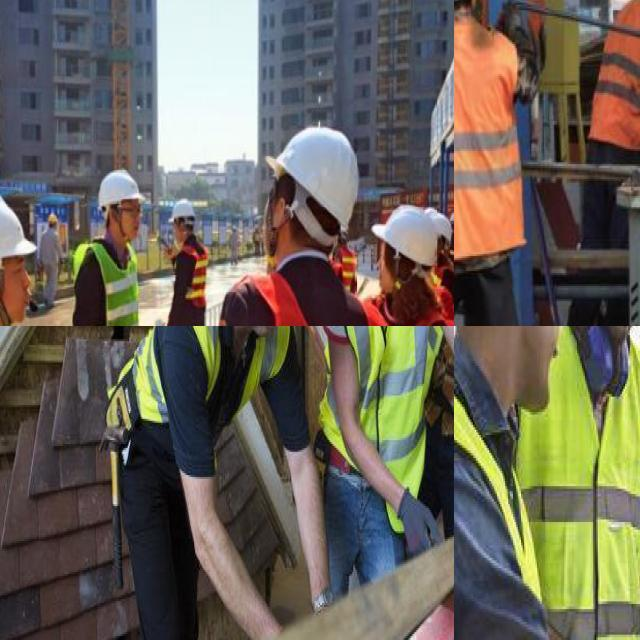face_nomask: (505, 326, 570, 417), (0, 256, 43, 326), (112, 198, 142, 248)
hand_glove: (398, 489, 449, 562)
hand_noglove: (160, 318, 176, 326)
head_helmet: (272, 124, 355, 227), (372, 202, 437, 263), (0, 189, 40, 270), (92, 163, 142, 203), (431, 207, 454, 245), (169, 193, 197, 218), (48, 212, 61, 224)
person: (124, 326, 327, 640), (217, 114, 405, 326), (454, 326, 559, 640), (323, 326, 444, 570), (548, 326, 640, 570), (454, 0, 522, 326), (580, 0, 640, 241), (71, 162, 159, 326), (369, 208, 453, 326), (163, 191, 216, 326), (434, 207, 454, 326), (338, 248, 358, 288)
vest: (548, 326, 640, 640), (333, 326, 442, 523), (454, 383, 522, 640), (130, 326, 287, 430), (454, 30, 523, 248), (581, 0, 640, 130), (74, 241, 143, 326), (172, 241, 213, 307), (388, 292, 454, 326), (439, 259, 454, 326), (342, 247, 361, 280)
